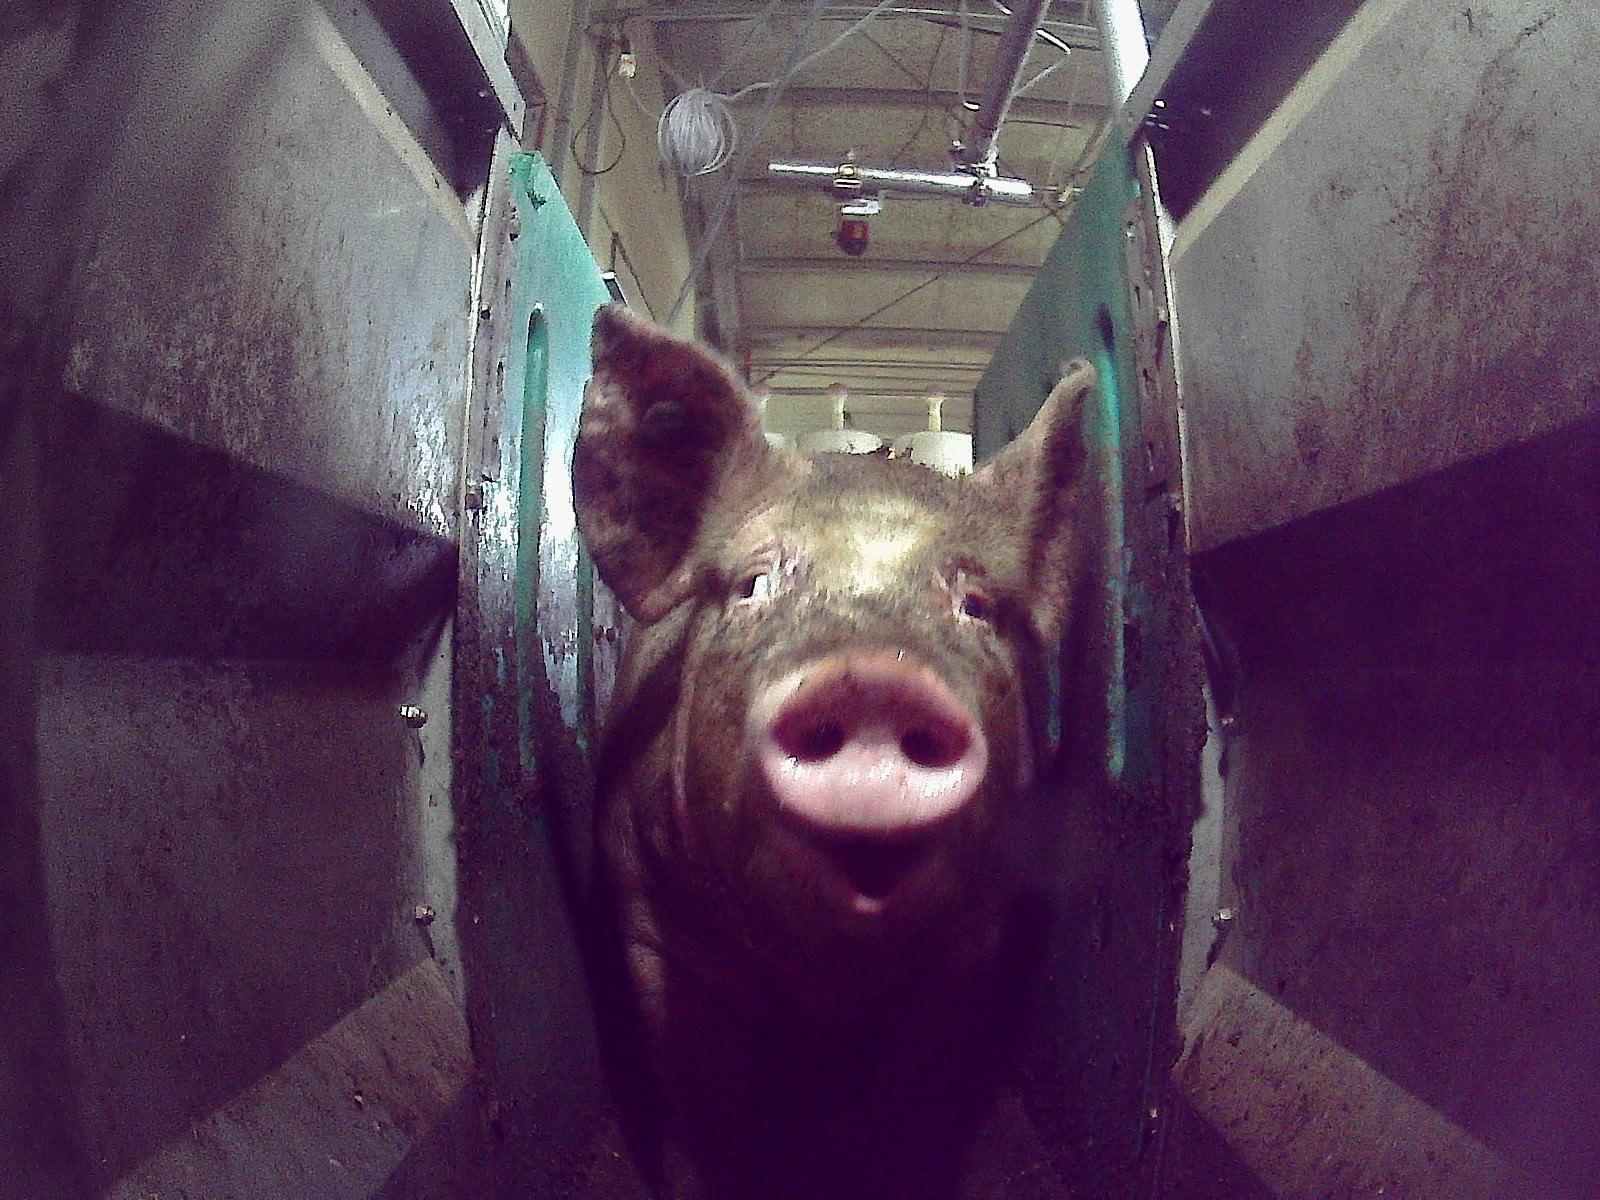Face: (646, 450, 1054, 978)
